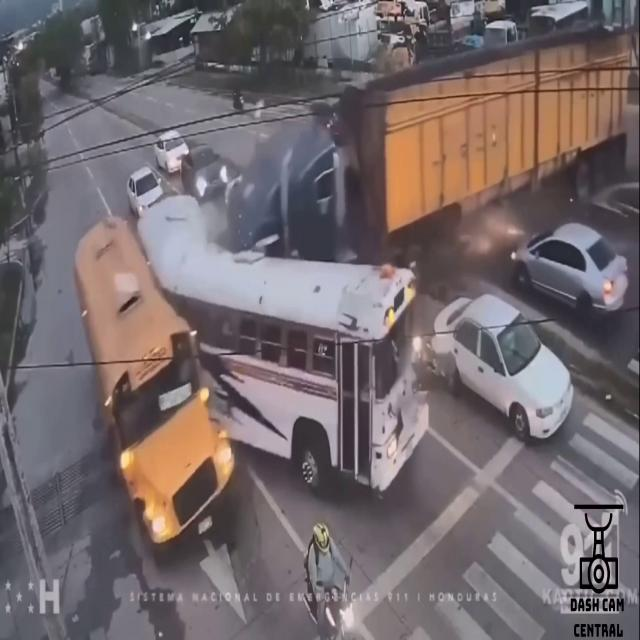accident: (99, 71, 414, 542)
